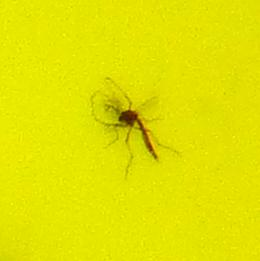Nematocera: (100, 100, 160, 161)
